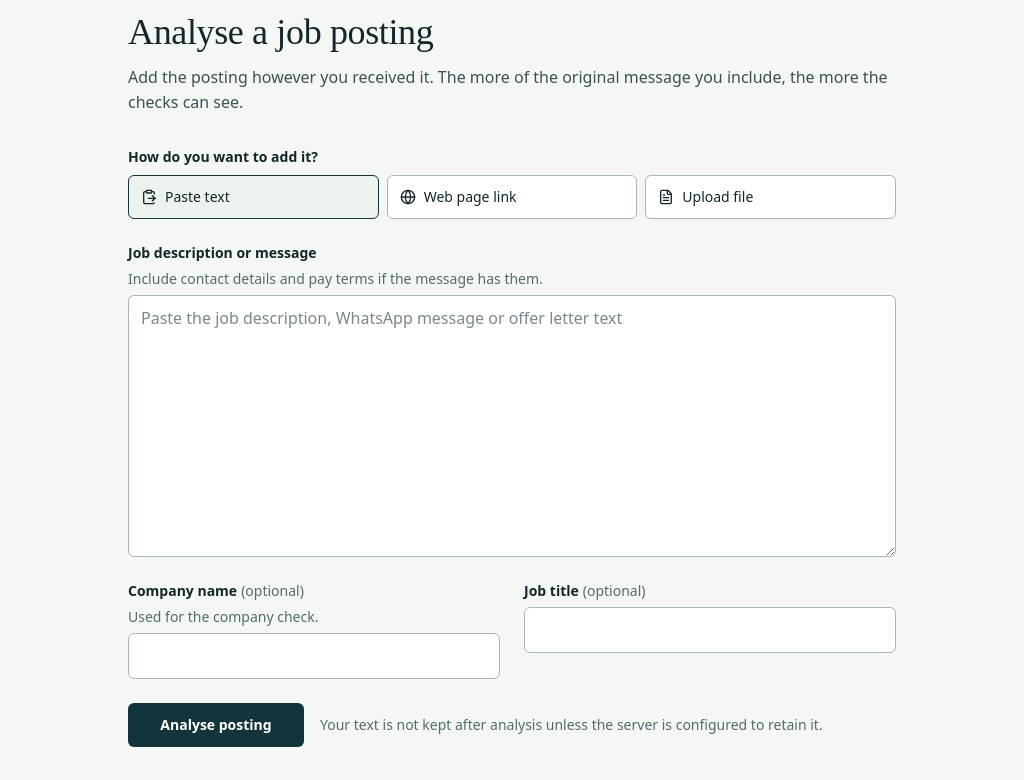
it: AnalyzePage › offers paste-text analysis when a job page blocks automated fetching
Click the radio button labelled "Web page link" at (512, 197), box [387,175,637,219]
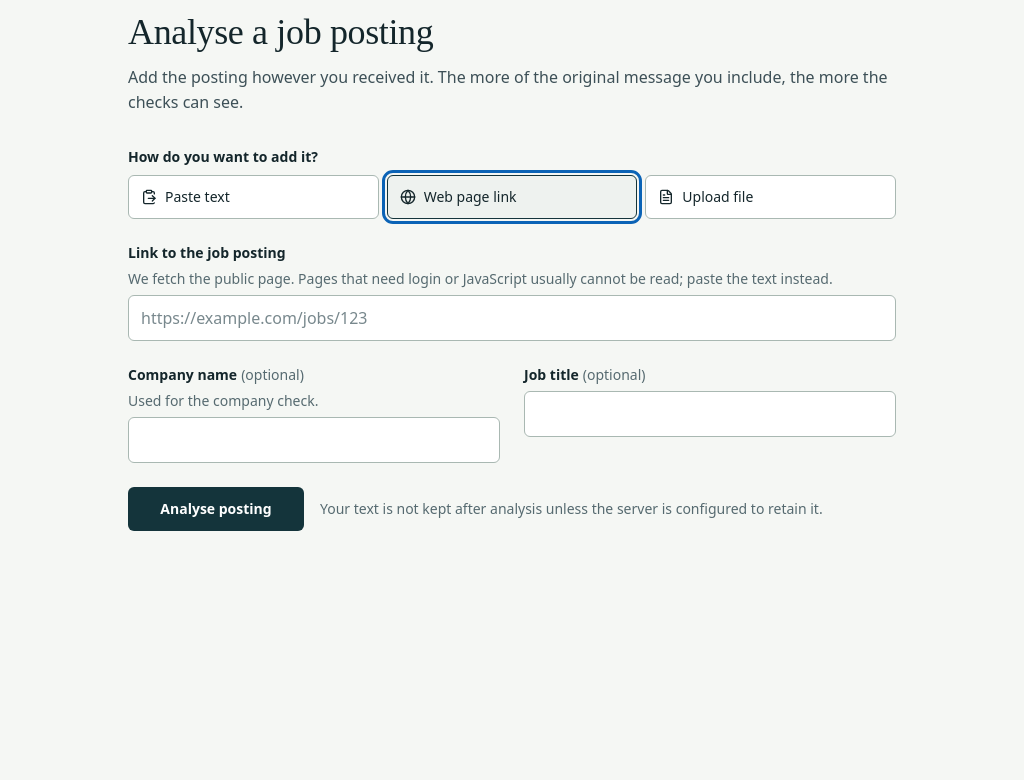
Type "https://careers.example.com/jobs/123" into the field labelled "Link to the job posting" at (512, 318), box [128,295,896,341]
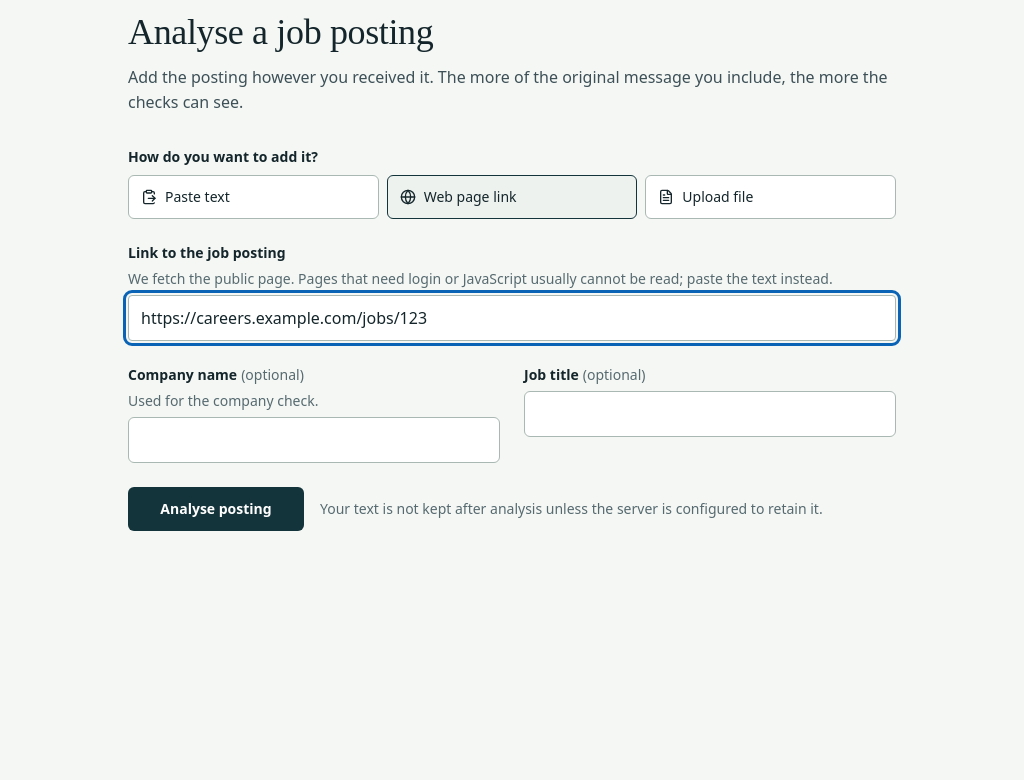
Click the button "Analyse posting" at (216, 509), box [128,487,304,531]
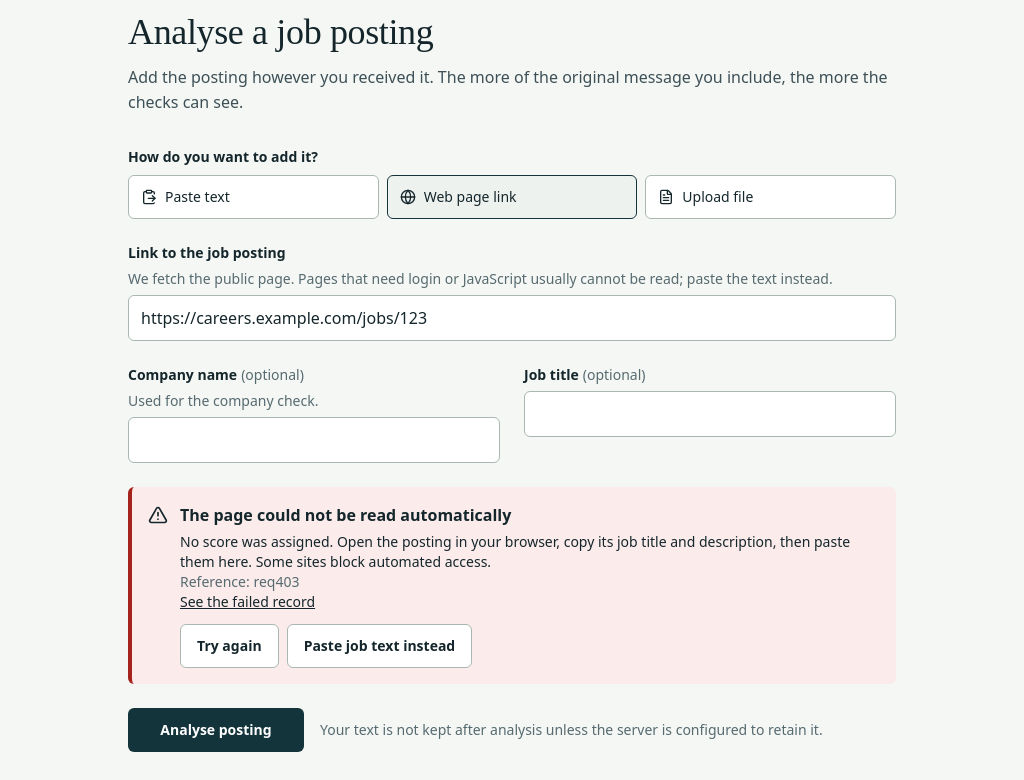
Expected: the text "No score was assigned" is shown, [180,532,850,571]
Expected: the text "Reference: req403" is shown, [180,572,299,591]
Click the button "Paste job text instead" at (379, 646), box [287,624,472,668]
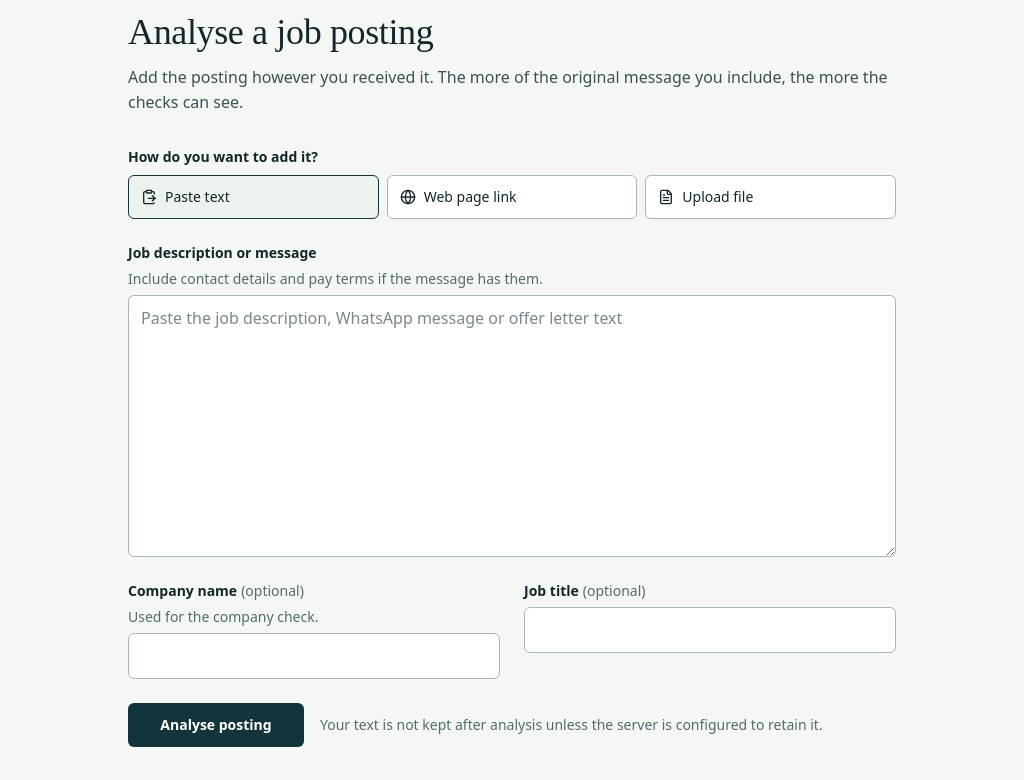
Expected: the text box labelled "Job description or message" is shown, [128,295,896,557]
Expected: the text "No score was assigned" is gone
